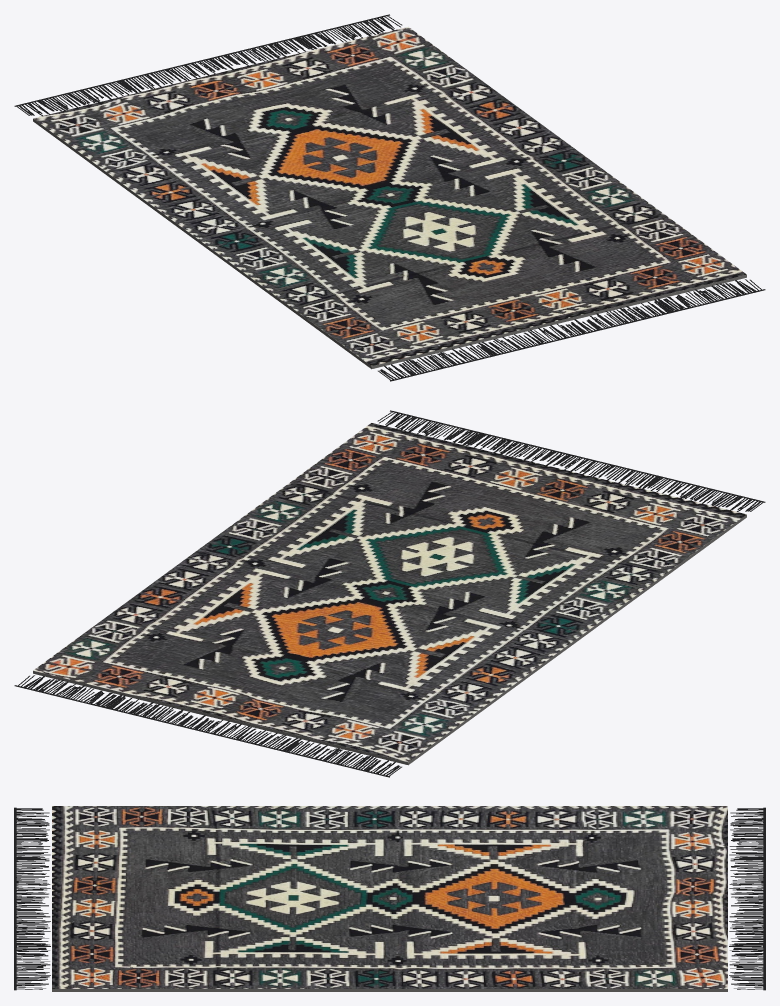
The picture shows the model from 3 angles, top to bottom: view 1: azimuth 30°, elevation 25°; view 2: azimuth 150°, elevation 25°; view 3: azimuth 270°, elevation 25°; orthographic projection.
Parts seen in each view (by area): view 1: rug, fringeB, fringeA, side; view 2: rug, fringeA, fringeB, side; view 3: rug, fringeA, fringeB, side.
Boxes of the visible parts, box(x1,y1,x2,y2) form: rug: box(33, 27, 746, 366); fringeB: box(378, 279, 765, 381); fringeA: box(14, 14, 402, 115); side: box(33, 118, 746, 369); rug: box(33, 423, 746, 762); fringeA: box(14, 675, 401, 777); fringeB: box(377, 410, 765, 511); side: box(33, 514, 746, 765); rug: box(52, 806, 727, 988); fringeA: box(729, 807, 765, 990); fringeB: box(14, 807, 50, 990); side: box(52, 989, 727, 991).
Size of what is drawn, in the model's own units: 0.8 by 0.00614 by 1.39.
Materials: 2 (2 with a texture image).
